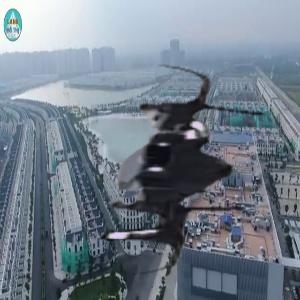drone: (58, 58, 285, 285)
